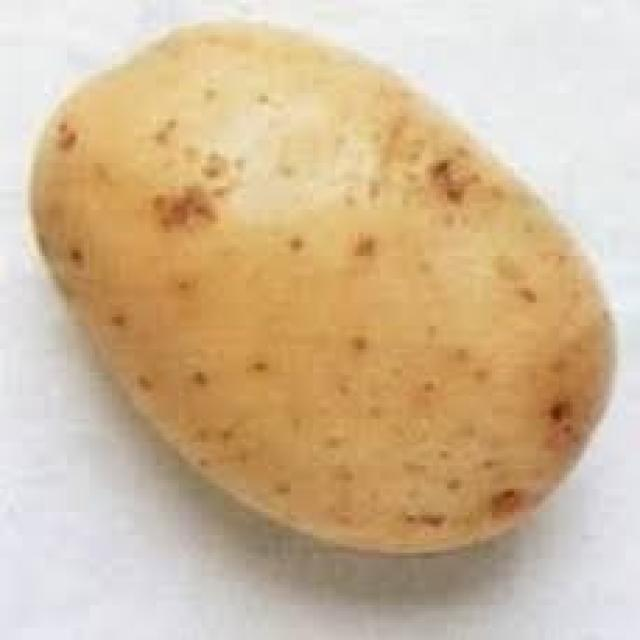Potato: (9, 15, 635, 576)
